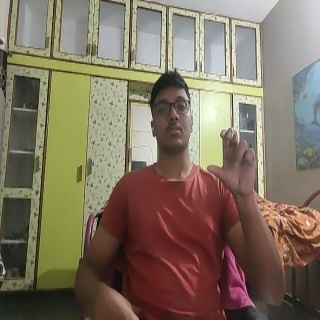No: (204, 127, 263, 197)
